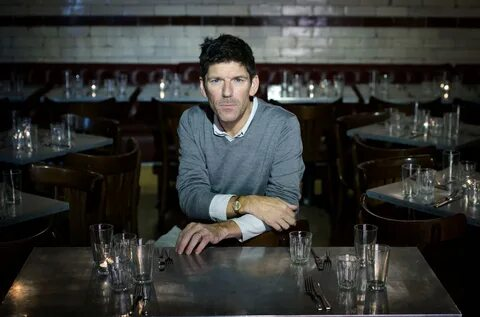awake: (172, 31, 307, 257)
